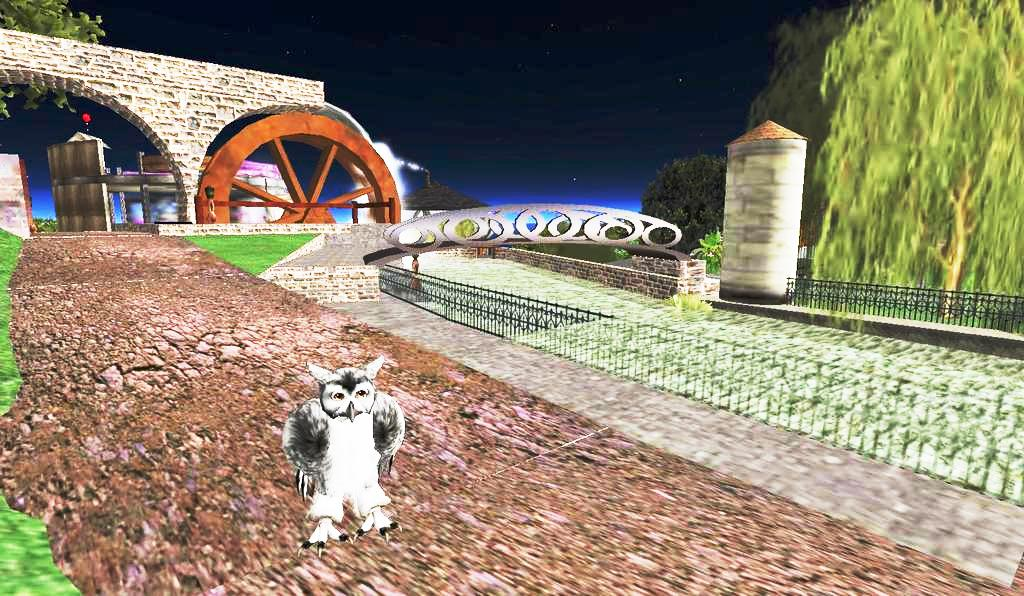Owl: (283, 359, 411, 556)
